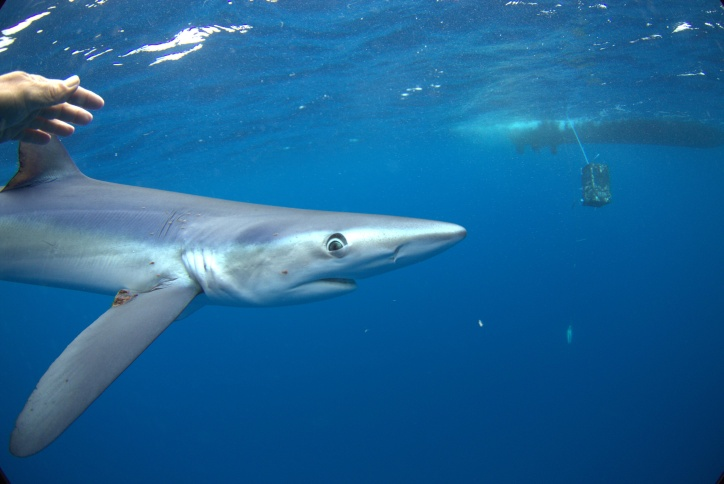Azul: (1, 129, 477, 473)
